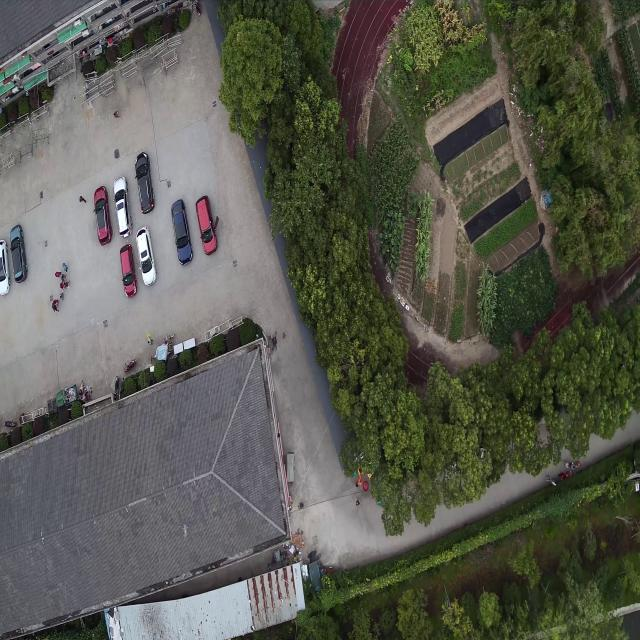UAV: (178, 523, 192, 540)
